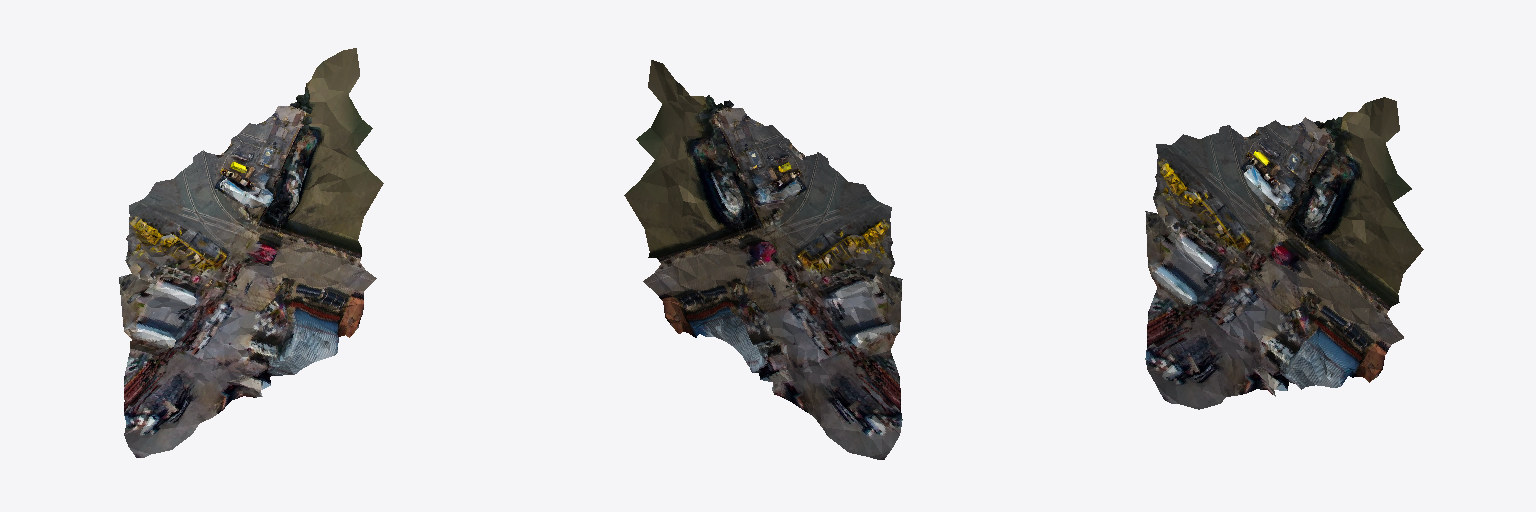
3 views of the same model, side by side, from view 1: azimuth 30°, elevation 25°; view 2: azimuth 150°, elevation 25°; view 3: azimuth 330°, elevation 25° (orthographic).
Bounding box in the file's own units: 74.96 × 92.64 × 12.15.
Materials: 1 (1 with a texture image).